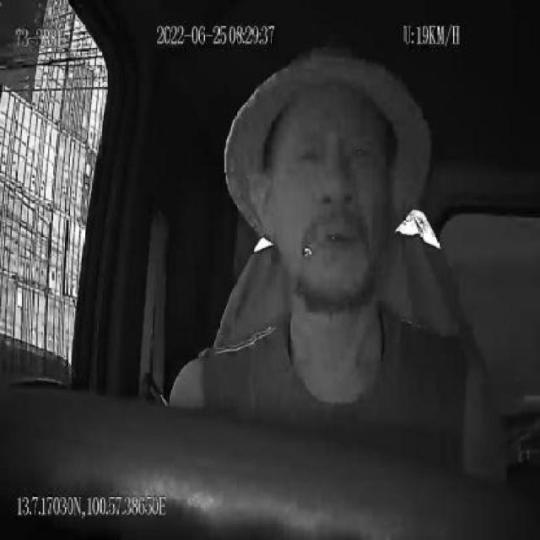smoking: (302, 230, 330, 259)
